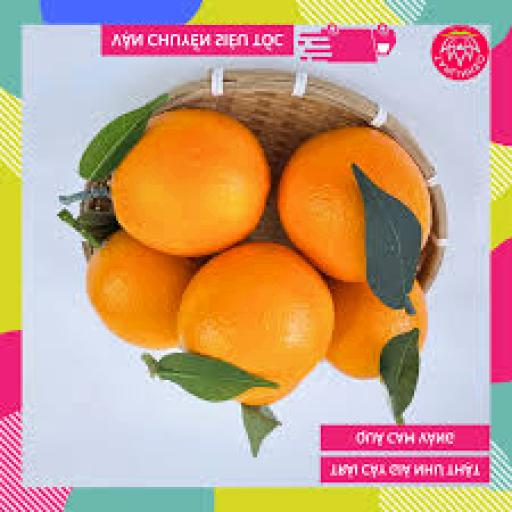orange: (178, 243, 334, 404), (278, 127, 430, 281), (112, 109, 270, 256), (87, 229, 195, 349), (328, 279, 427, 379)
